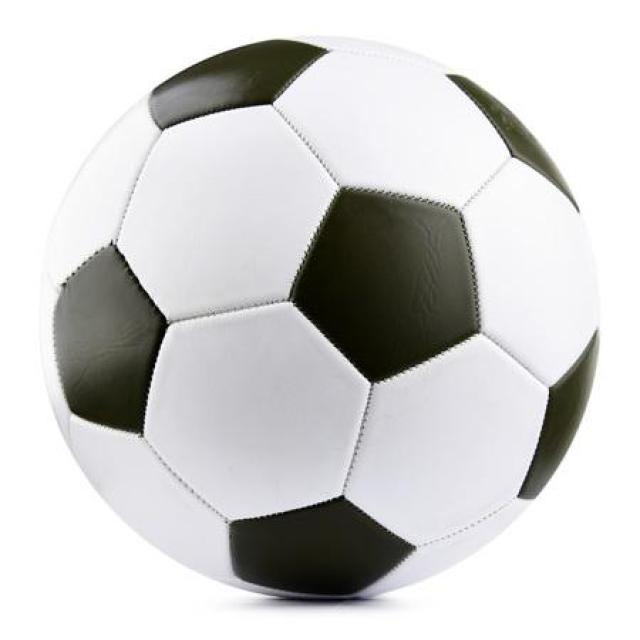Soccer Ball: (40, 33, 599, 596)
